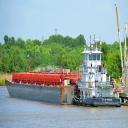tugboat: (72, 35, 123, 111)
